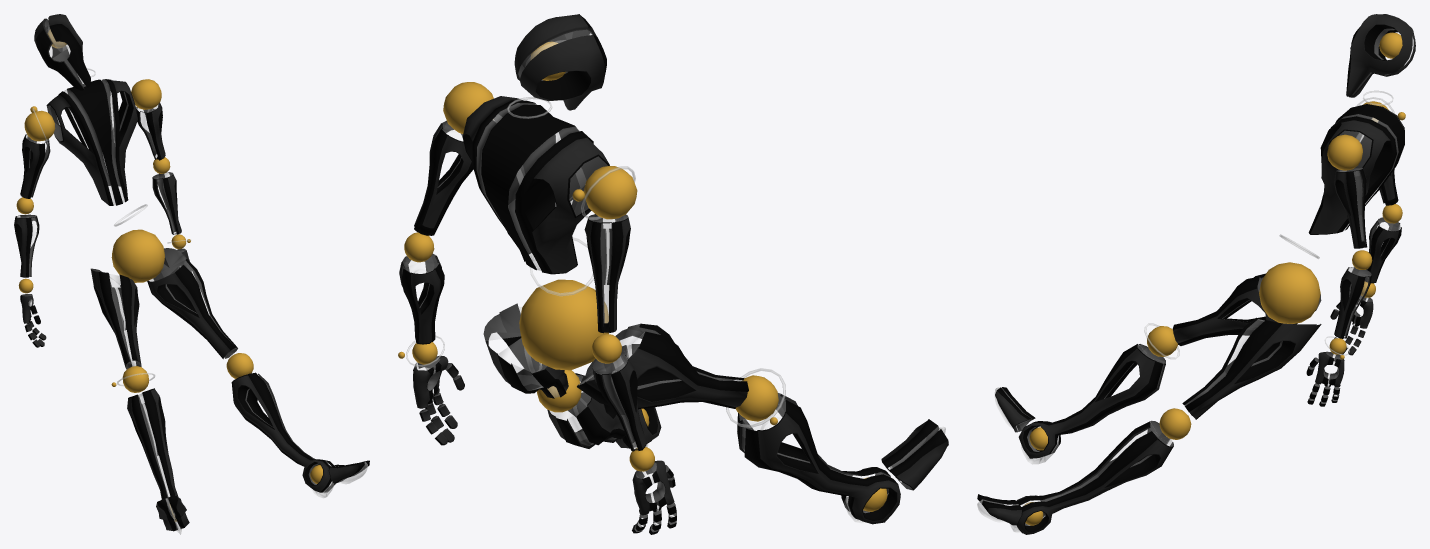
File: Statue 6.fbx
The picture shows the model from 3 angles, left to right: view 1: azimuth 30°, elevation 25°; view 2: azimuth 150°, elevation 25°; view 3: azimuth 270°, elevation 25°; orthographic projection. The views are drawn at different scales.
Visible parts, largest first — view 1: Torso V2.006; view 2: Torso V2.006; view 3: Torso V2.006.
Boxes of the visible parts, x1,y1,x2,y2 form: Torso V2.006: (14,14,369,534); Torso V2.006: (398,14,948,534); Torso V2.006: (977,14,1415,534).
Size of the model in its own units: 0.7336 by 1.36 by 1.17.
